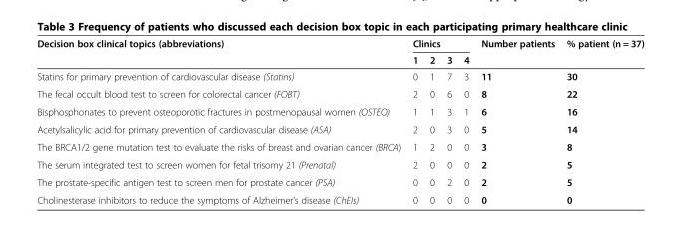table: (36, 37, 643, 205)
table column: (36, 37, 406, 205), (474, 37, 560, 205), (560, 37, 643, 205), (406, 37, 423, 205), (423, 37, 440, 205), (440, 37, 457, 205), (457, 37, 474, 205)
table column header: (36, 37, 643, 67)
table row: (36, 84, 643, 102), (36, 102, 643, 120), (36, 137, 643, 155), (36, 155, 643, 173), (36, 67, 643, 84), (36, 120, 643, 137), (36, 173, 643, 190), (36, 51, 643, 67), (36, 190, 643, 205), (36, 37, 643, 51)
table spanning cell: (36, 37, 406, 67), (474, 37, 560, 67), (560, 37, 643, 67), (406, 37, 474, 51)
